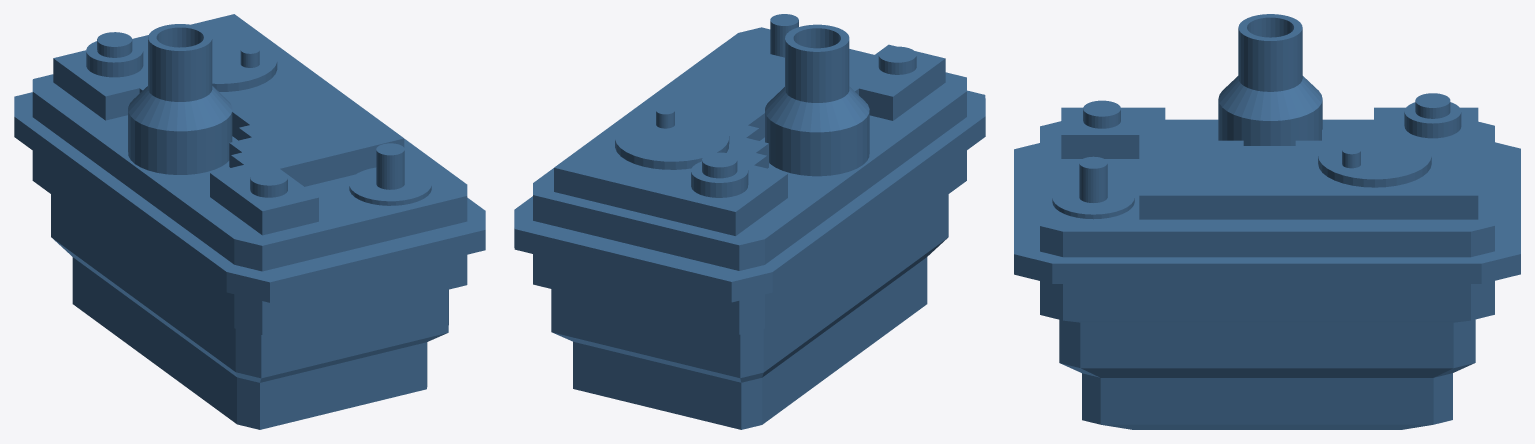
The model's file is Sanicubic-1-VX.glb.
3 renders of one model, left to right at view 1: azimuth 30°, elevation 25°; view 2: azimuth 150°, elevation 25°; view 3: azimuth 270°, elevation 25°, orthographic.
Parts seen in each view (by area): view 1: Product9; view 2: Product9; view 3: Product9.
Part boxes in pixels (x1,y1,x2,y2): Product9: [14, 14, 485, 429]; Product9: [514, 14, 985, 429]; Product9: [1014, 14, 1520, 429].
Bounding box in the file's own units: 1.56 × 1.94 × 2.67.
